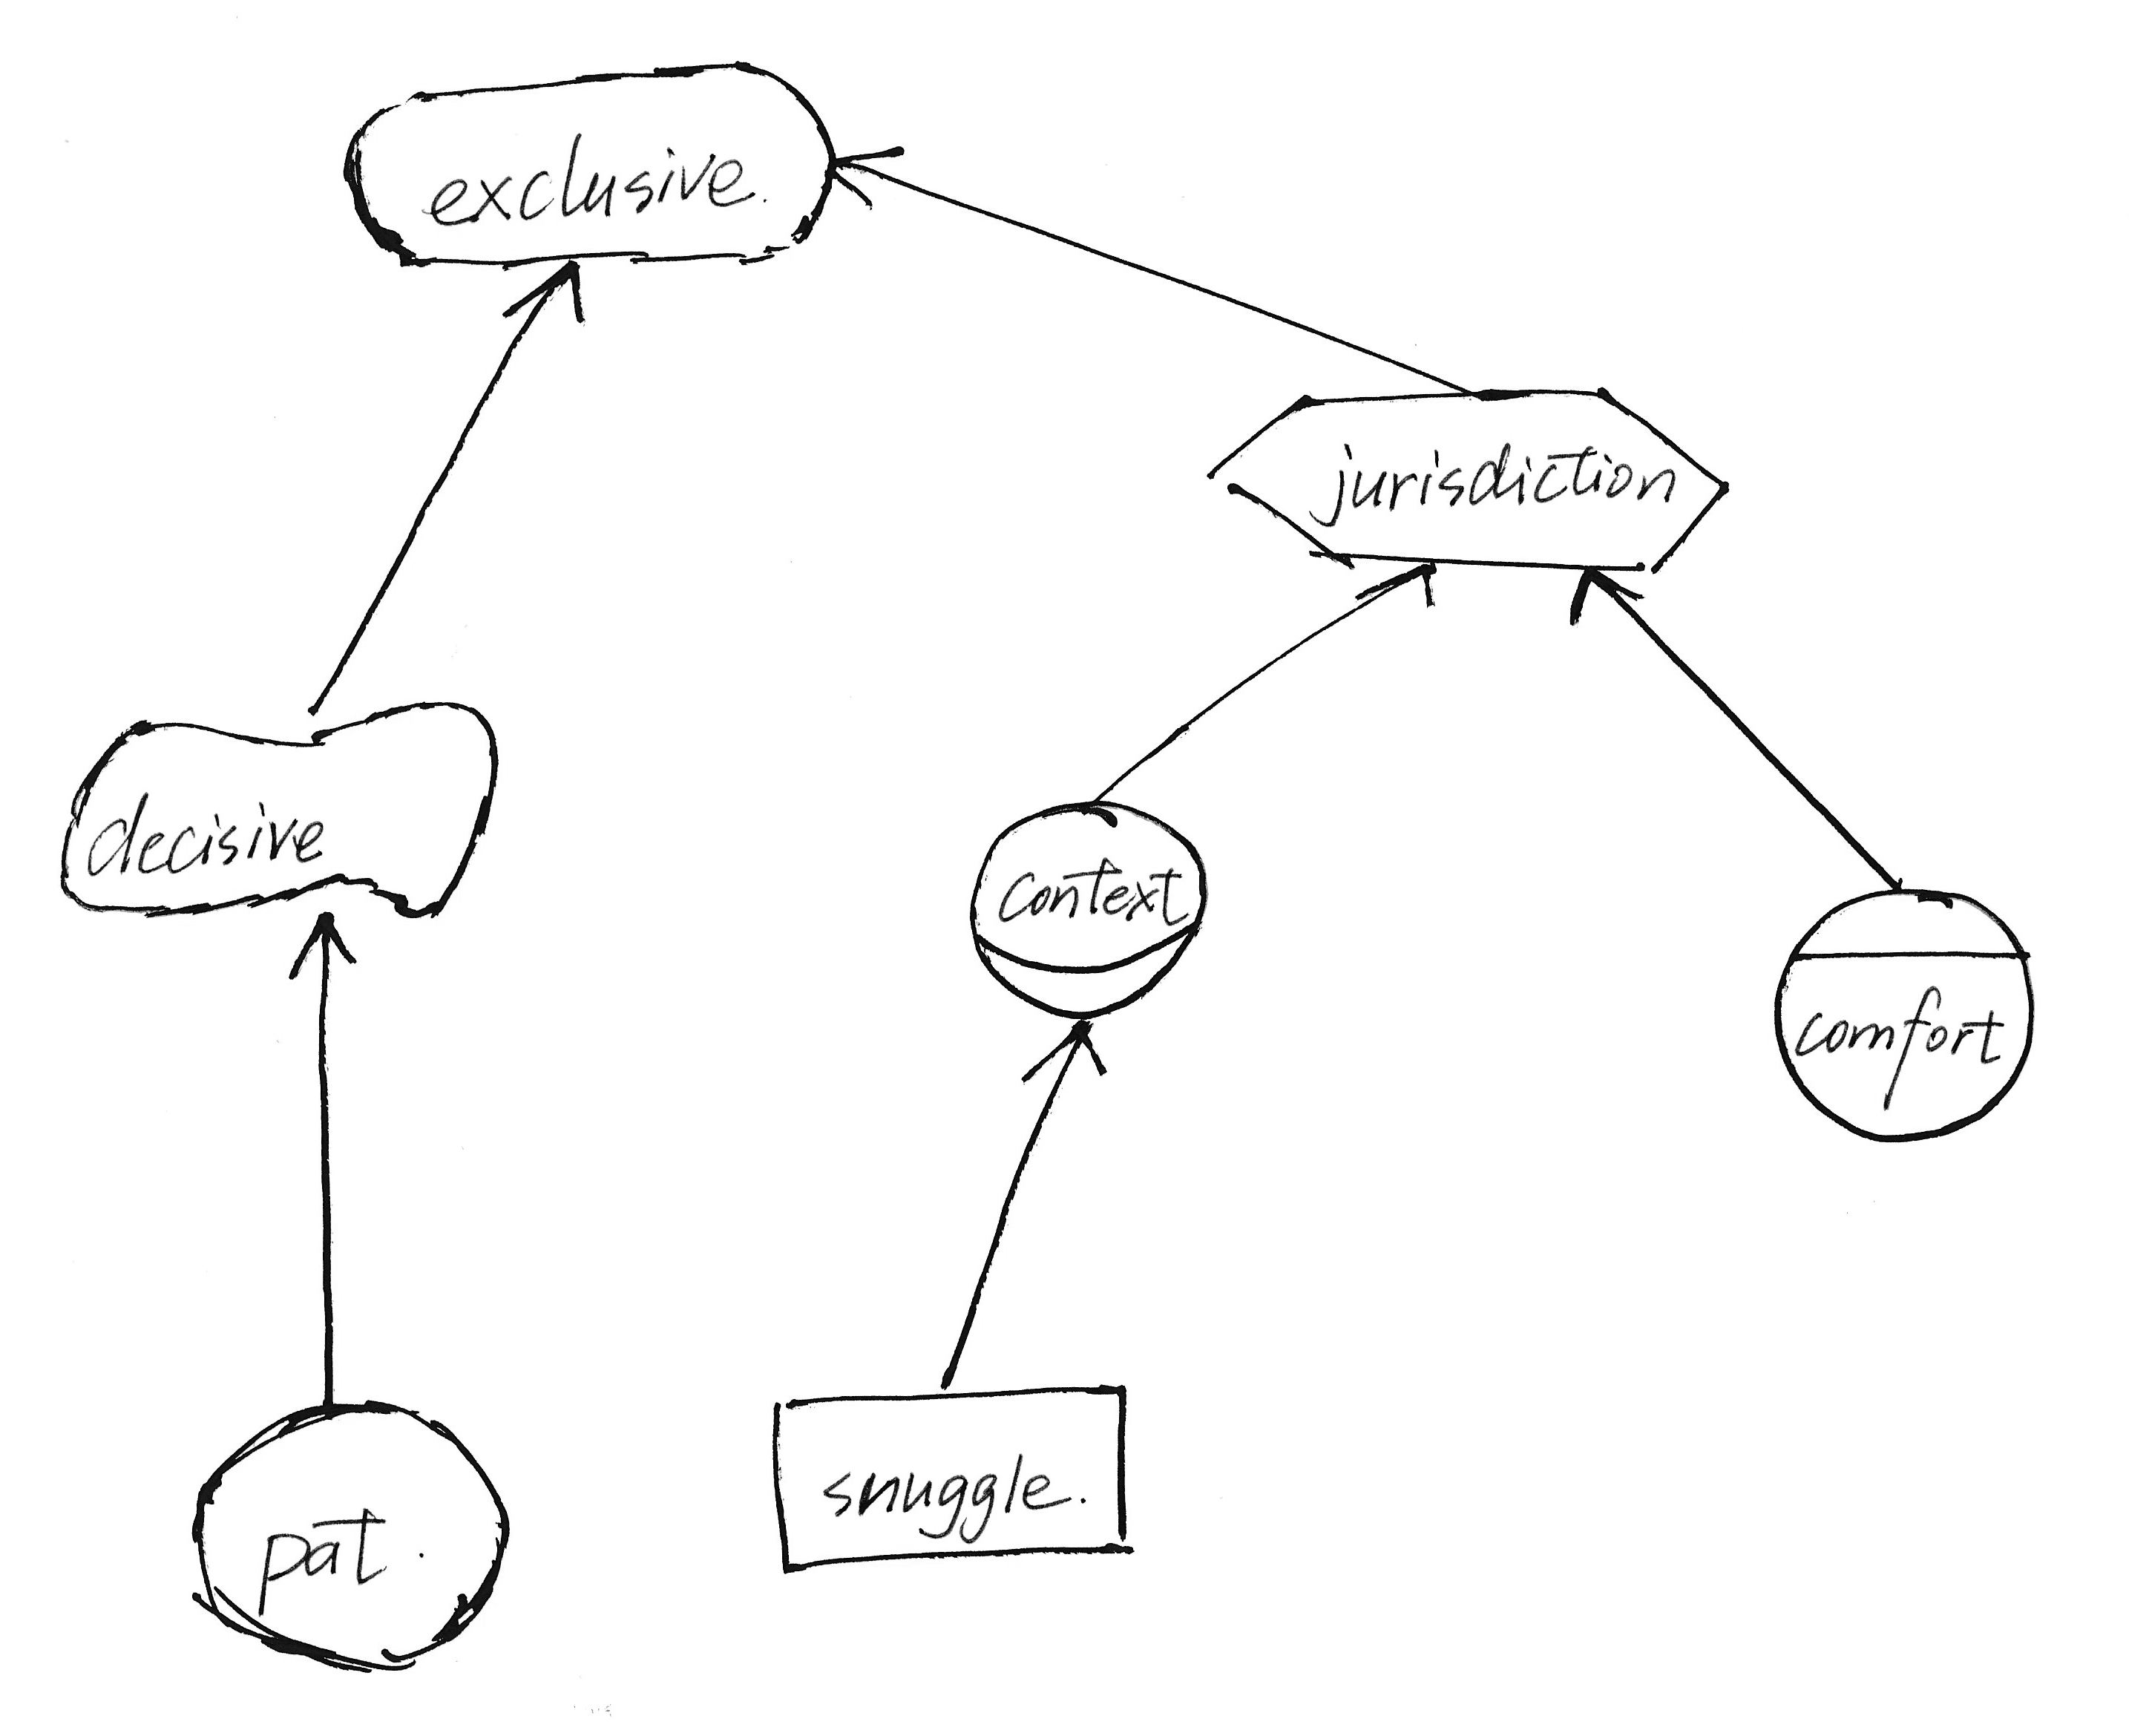actor: (177, 1381, 525, 1679)
agent: (1756, 868, 2041, 1154)
arrow: (817, 131, 914, 217), (504, 249, 599, 334), (1011, 1002, 1105, 1087), (278, 903, 361, 992), (1358, 548, 1450, 626), (1556, 559, 1653, 631)
goal: (334, 44, 854, 279)
quality: (46, 682, 516, 930)
resource: (752, 1370, 1156, 1589)
role: (957, 781, 1218, 1034)
task: (1192, 375, 1744, 587)
